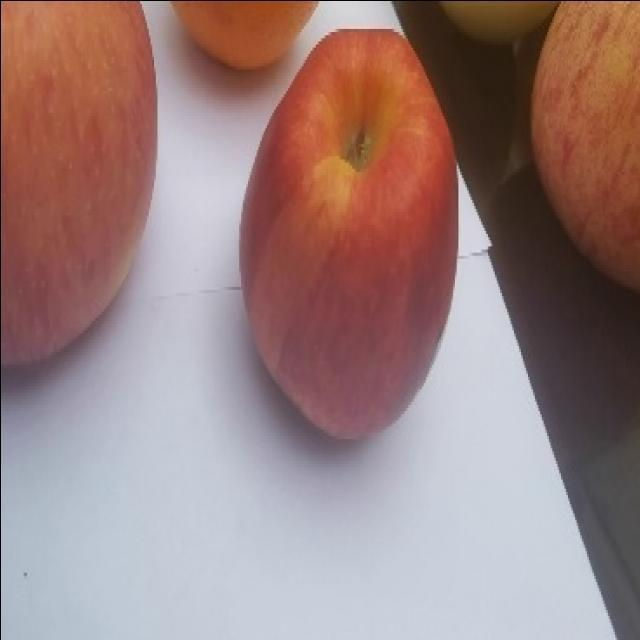Apple: (238, 27, 459, 440), (0, 0, 158, 367), (528, 0, 639, 292)
Orange: (169, 0, 318, 71)
